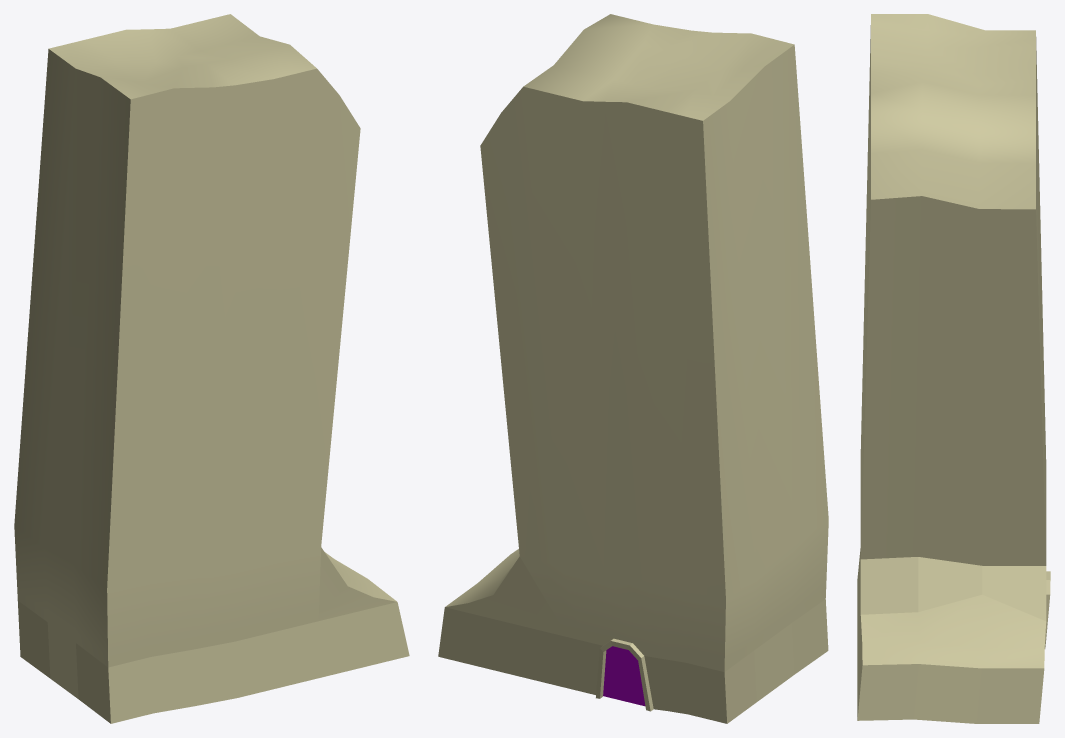
File: hut4.fbx
3 views of the same model, side by side, from view 1: azimuth 30°, elevation 25°; view 2: azimuth 150°, elevation 25°; view 3: azimuth 270°, elevation 25° (orthographic). The views are drawn at different scales.
Visible parts, largest first — view 1: pasted__pCube4; view 2: pasted__pCube4; view 3: pasted__pCube4.
Part boxes in pixels (x1,y1,x2,y2): pasted__pCube4: (14,14,409,723); pasted__pCube4: (438,14,828,723); pasted__pCube4: (857,14,1050,723).
Size of the model in its own units: 22.23 by 43.89 by 13.11.
